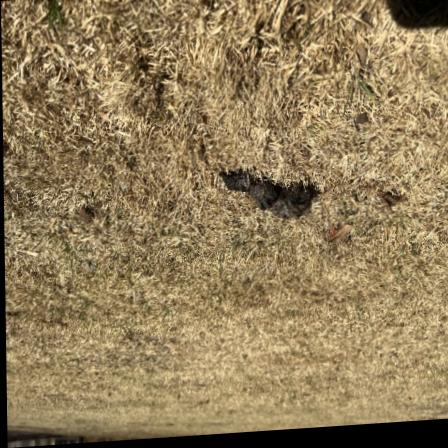dog-poop: (222, 168, 318, 233)
